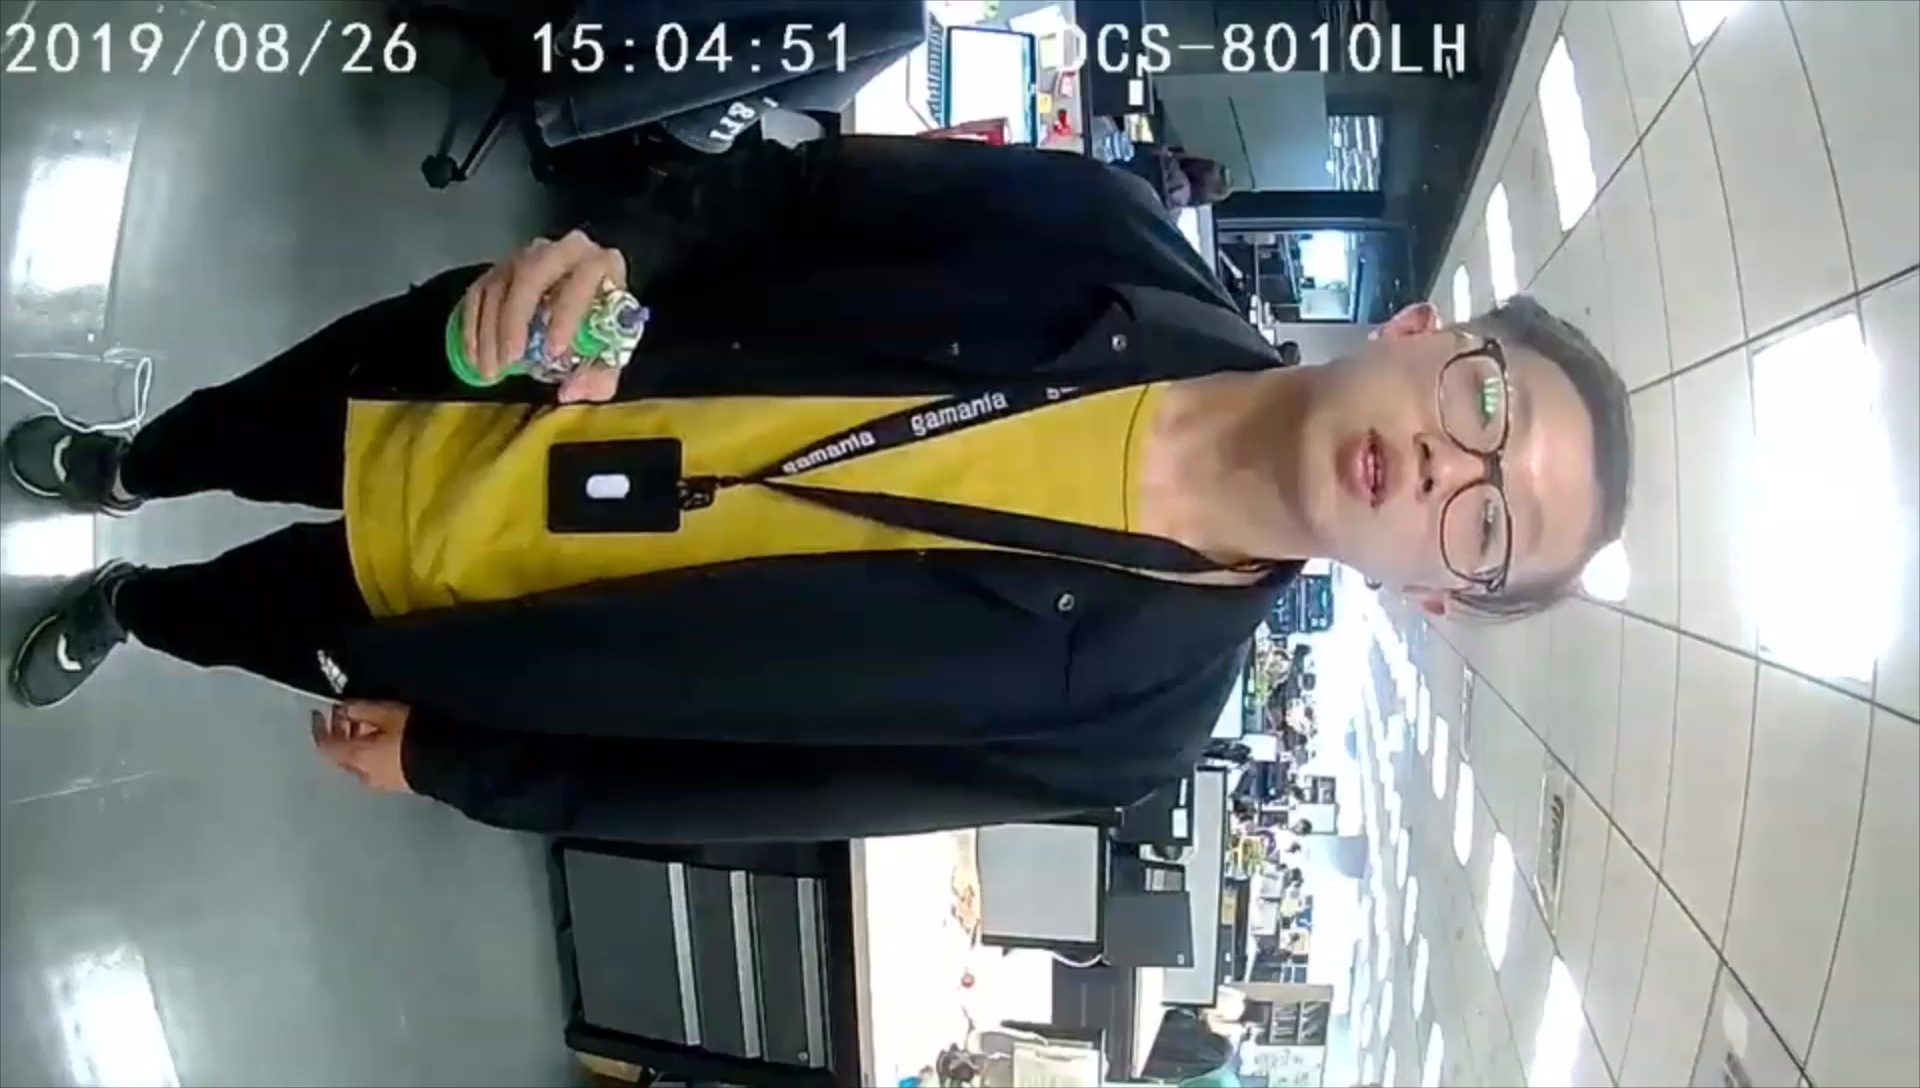buzz: (440, 264, 651, 400)
